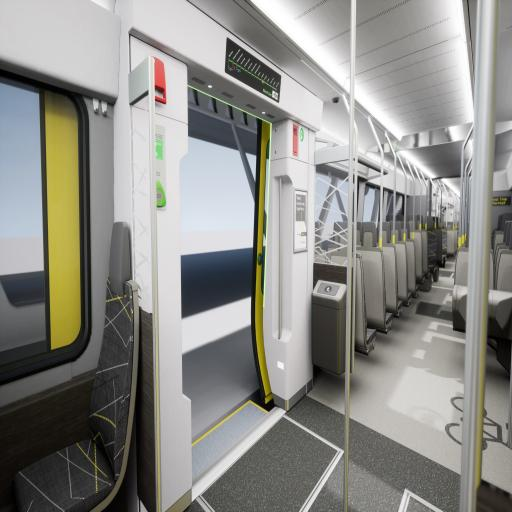platform_edge: (188, 399, 348, 512)
